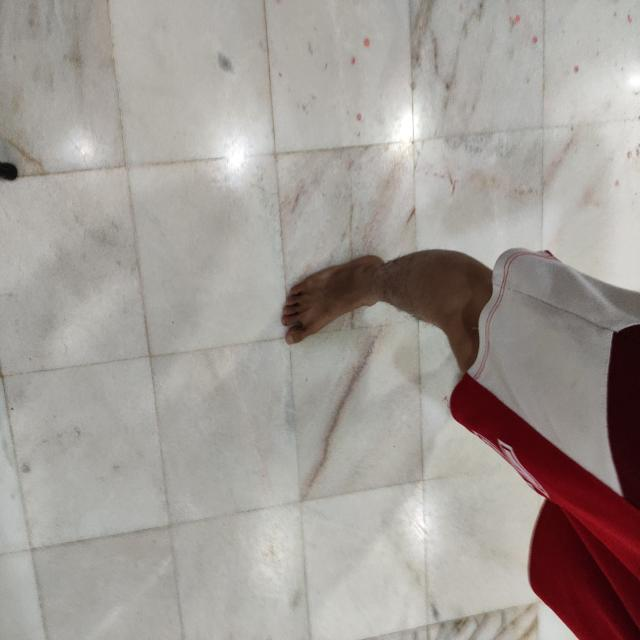No_Shoes: (278, 244, 393, 357)
